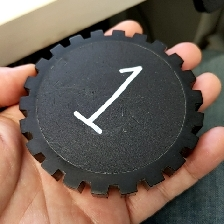gear: (17, 27, 206, 199)
